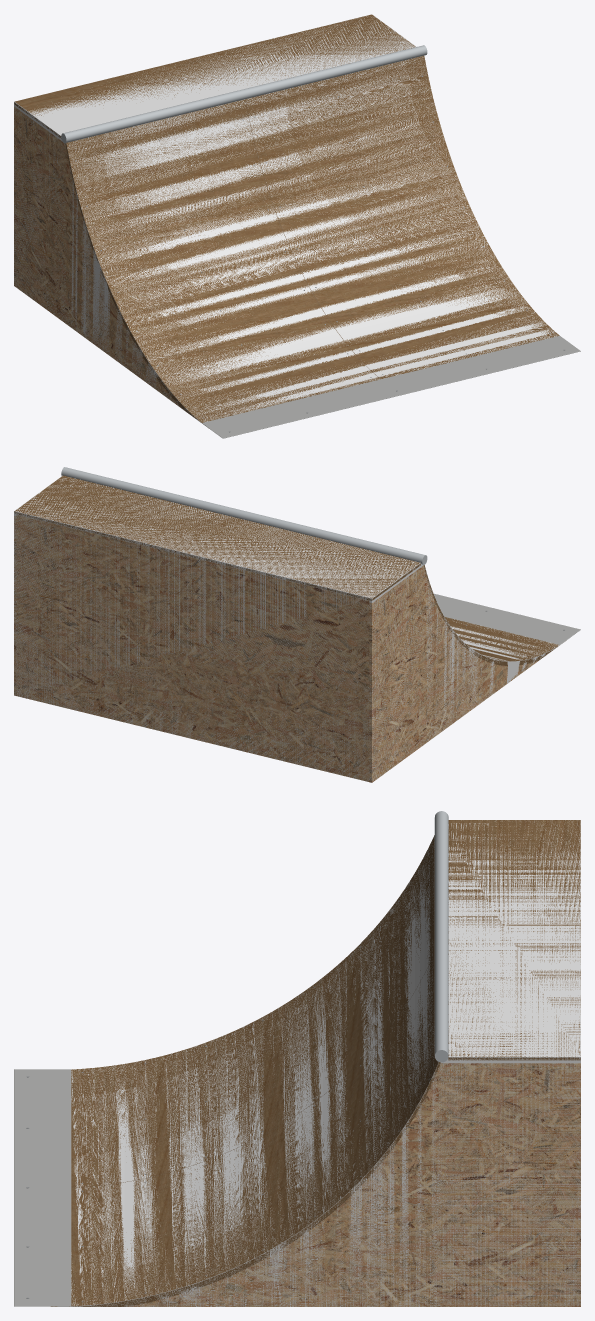
File: quarter_pipe.glb
The picture shows the model from 3 angles, top to bottom: view 1: azimuth 30°, elevation 25°; view 2: azimuth 150°, elevation 25°; view 3: azimuth 270°, elevation 25°; orthographic projection. The views are drawn at different scales.
Visible parts, largest first — view 1: quarter_pipe_plywood, COL_quarter_pipe, quarter_pipe_osb, quarter_pipe_scuffed steel plate, quarter_pipe_galvanized steel; view 2: quarter_pipe_osb, COL_quarter_pipe, quarter_pipe_plywood, quarter_pipe_galvanized steel, quarter_pipe_scuffed steel plate; view 3: COL_quarter_pipe, quarter_pipe_plywood, quarter_pipe_osb, quarter_pipe_scuffed steel plate, quarter_pipe_galvanized steel.
Part boxes in pixels (bbox=[...]): quarter_pipe_plywood: bbox=[14, 14, 559, 428]; COL_quarter_pipe: bbox=[14, 14, 557, 424]; quarter_pipe_osb: bbox=[14, 107, 181, 408]; quarter_pipe_scuffed steel plate: bbox=[202, 335, 580, 438]; quarter_pipe_galvanized steel: bbox=[61, 45, 427, 143]; quarter_pipe_osb: bbox=[14, 515, 538, 782]; COL_quarter_pipe: bbox=[14, 475, 560, 782]; quarter_pipe_plywood: bbox=[14, 475, 559, 665]; quarter_pipe_galvanized steel: bbox=[61, 467, 427, 564]; quarter_pipe_scuffed steel plate: bbox=[434, 593, 580, 644]; COL_quarter_pipe: bbox=[58, 820, 580, 1306]; quarter_pipe_plywood: bbox=[51, 820, 580, 1306]; quarter_pipe_osb: bbox=[128, 1063, 580, 1306]; quarter_pipe_scuffed steel plate: bbox=[14, 1069, 71, 1306]; quarter_pipe_galvanized steel: bbox=[434, 811, 448, 1062].
Size of the model in its own units: 2.46 by 1.24 by 2.47.
Materials: 6 (2 with a texture image).
